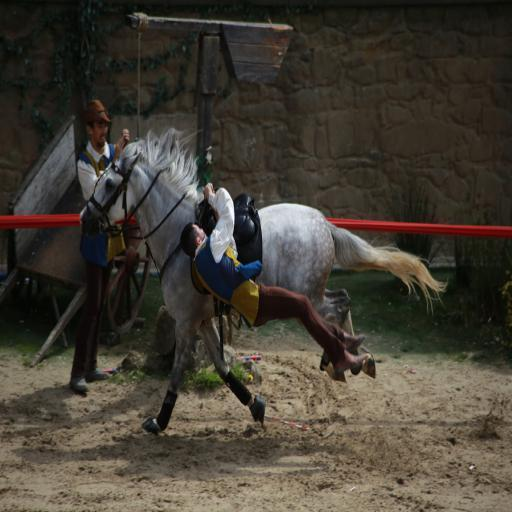horse: (78, 124, 448, 434)
